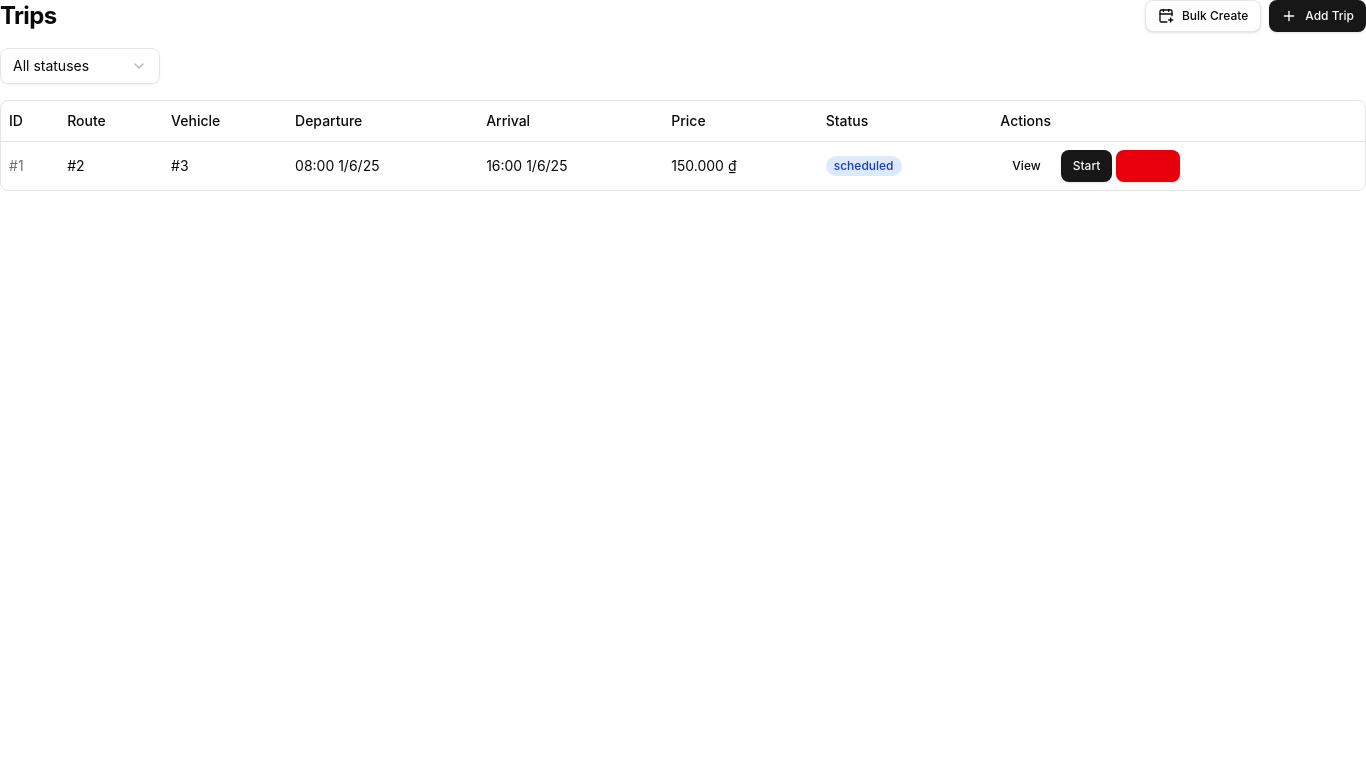
Test: TripsPage › opens trip details dialog when View is clicked
What coordinates should you click on to do the following:
click the button "View"
I would click on:
 (1027, 166)
Its box is [1000,150,1053,182].
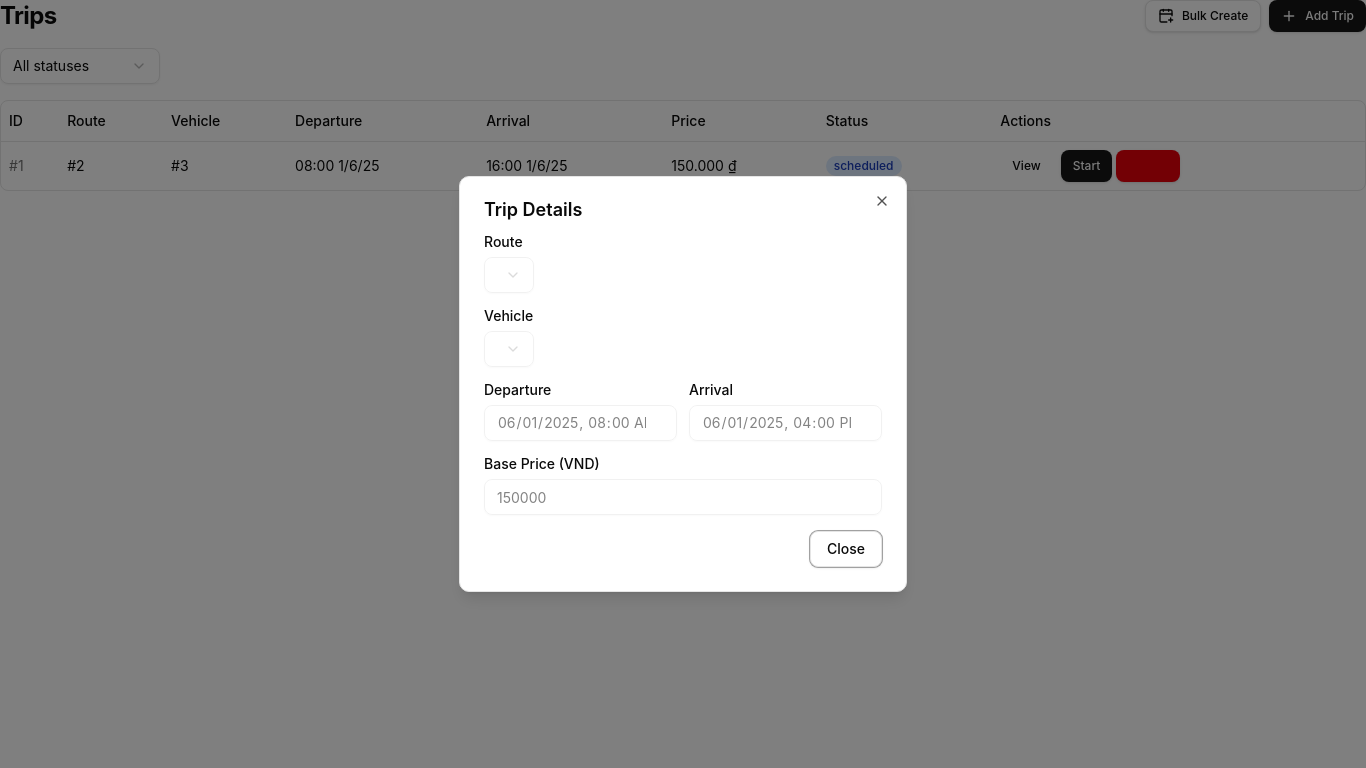
Check: the heading "Trip Details" is shown, box [484,199,582,220]
